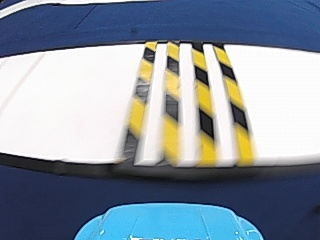bump: (124, 44, 254, 161)
